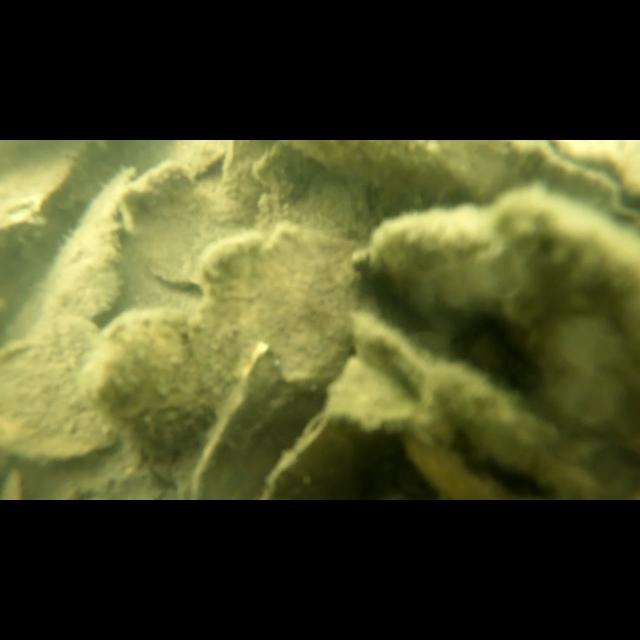Oyster-Closed: (74, 222, 376, 500), (0, 309, 116, 471)
Oyster-Open: (346, 182, 640, 500), (184, 340, 353, 500), (510, 140, 640, 220)
